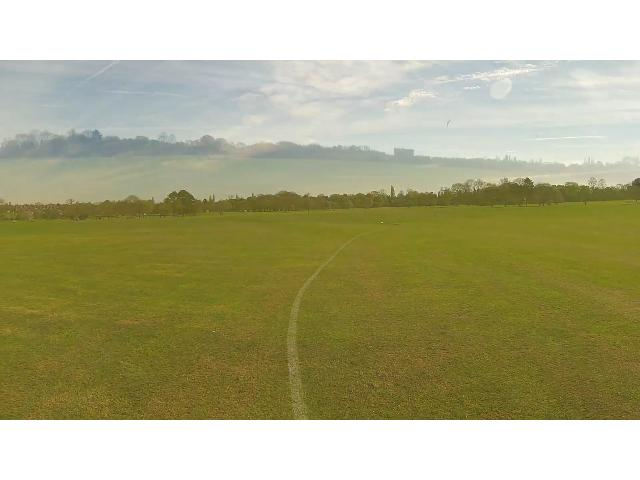Anti-Drone: (442, 118, 456, 130)
